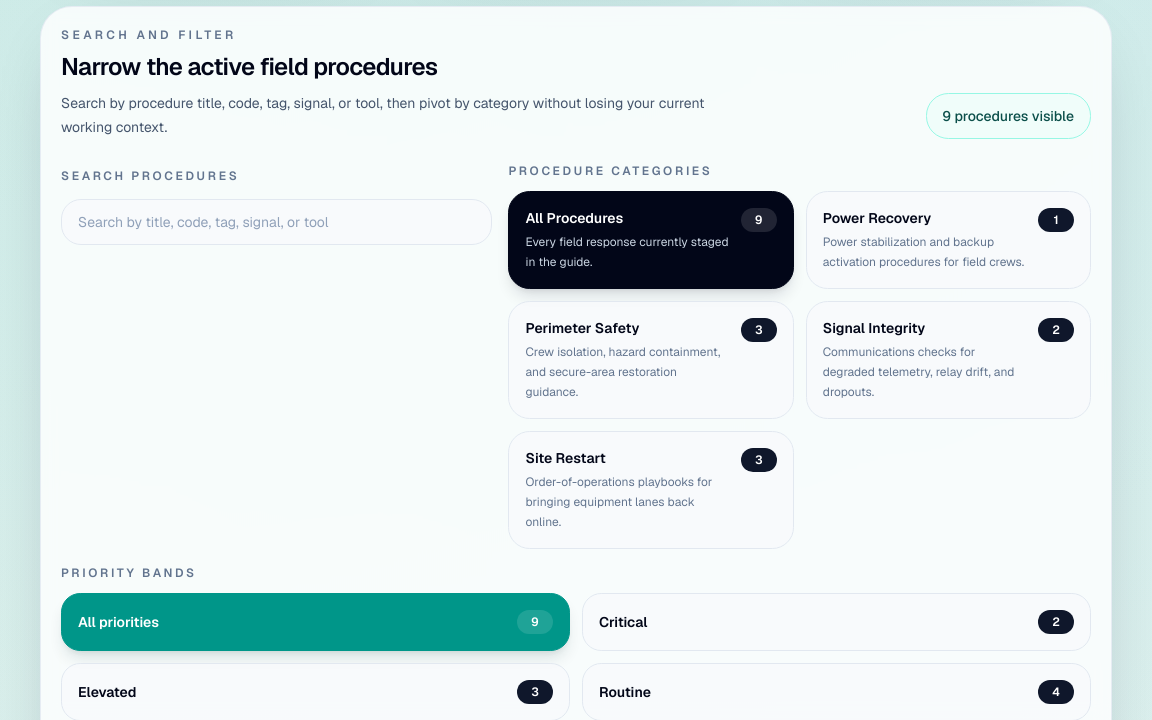
it: FieldGuidePage › filters procedures by category and updates the visible detail selection
(page scrolled)
Click the button "Signal Integrity": (948, 360) [806,301,1091,419]
(page scrolled)
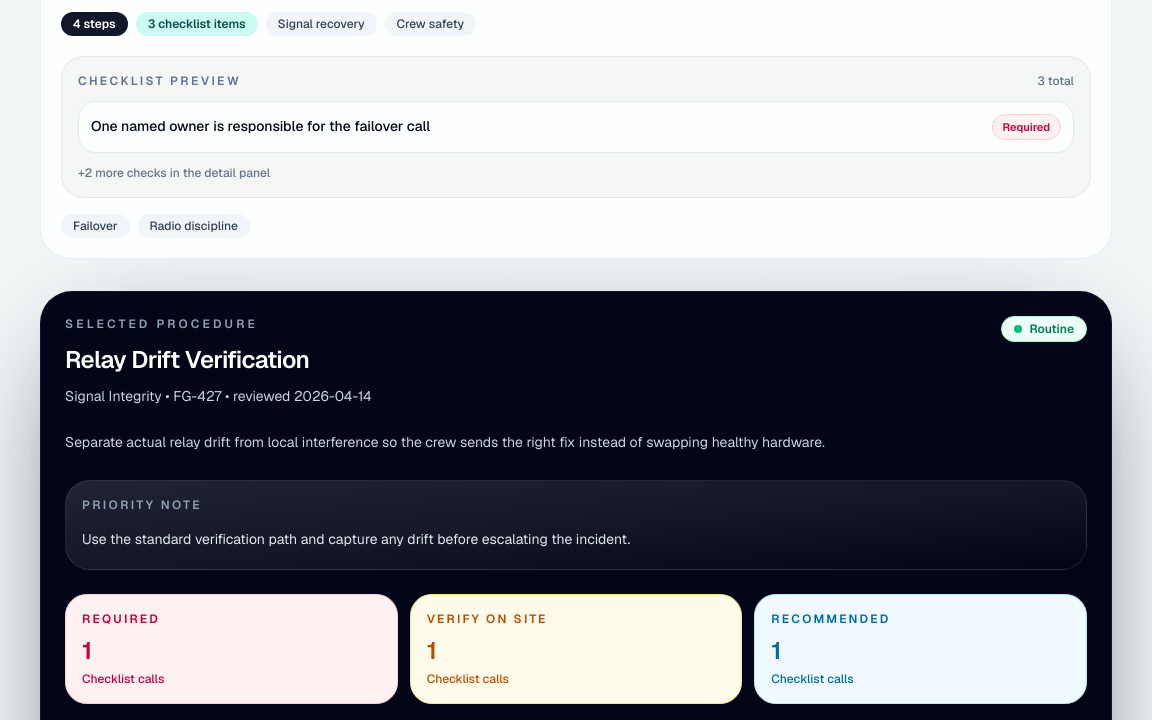
Result: the heading "Relay Drift Verification" is shown at [65,344,309,375]
